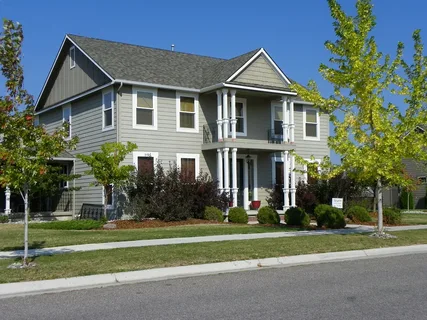private_hause: (48, 40, 330, 211)
